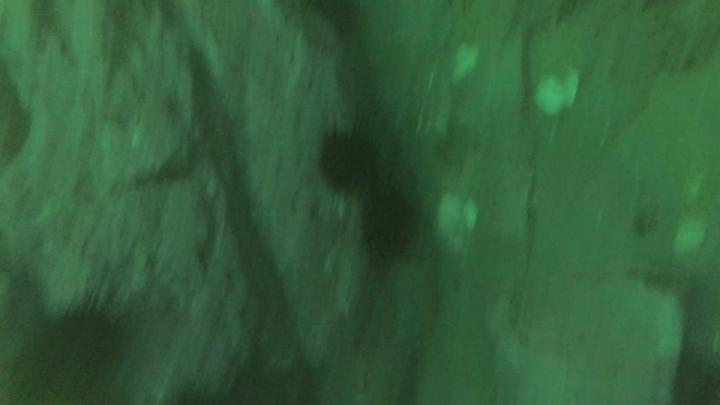echinus: (14, 287, 136, 405), (355, 178, 426, 273), (314, 114, 383, 197)
